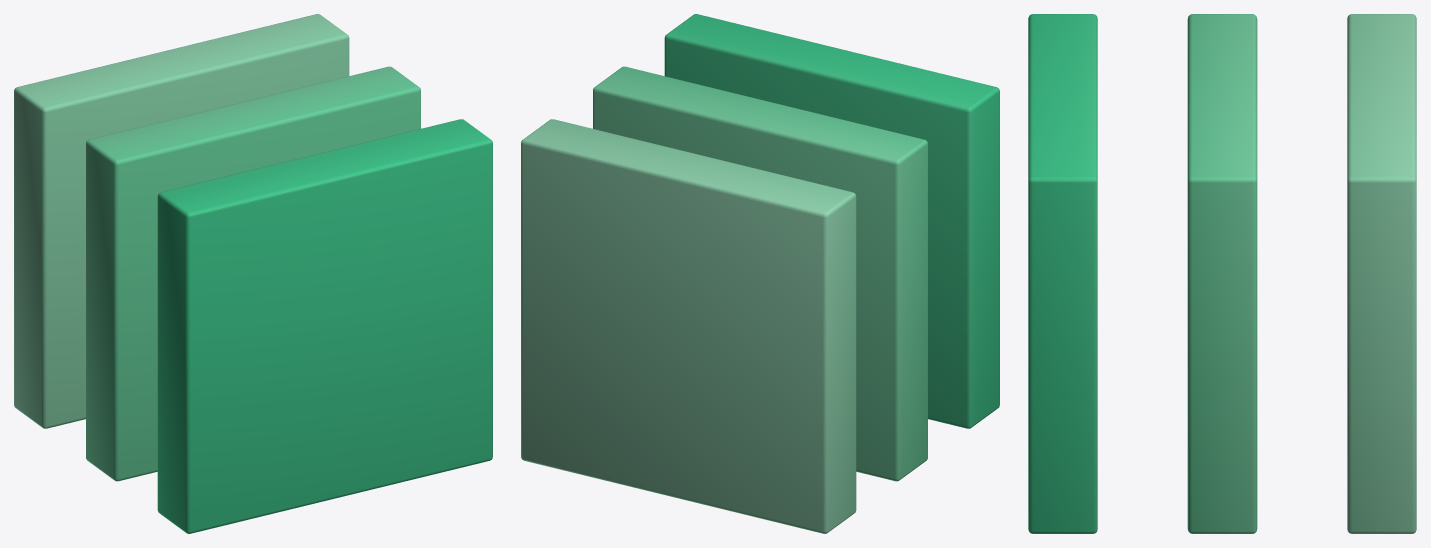
The model's file is Align.gltf.
The picture shows the model from 3 angles, left to right: view 1: azimuth 30°, elevation 25°; view 2: azimuth 150°, elevation 25°; view 3: azimuth 270°, elevation 25°; orthographic projection. The views are drawn at different scales.
Visible parts, largest first — view 1: Cube.001, Cube.003, Cube.002; view 2: Cube.003, Cube.001, Cube.002; view 3: Cube.002, Cube.001, Cube.003.
Boxes of the visible parts, left/top/right/bottom form: Cube.001: left=157, top=119, right=492, bottom=533; Cube.003: left=14, top=14, right=349, bottom=428; Cube.002: left=86, top=66, right=420, bottom=481; Cube.003: left=521, top=119, right=856, bottom=533; Cube.001: left=664, top=14, right=999, bottom=428; Cube.002: left=593, top=66, right=927, bottom=481; Cube.002: left=1187, top=14, right=1257, bottom=533; Cube.001: left=1028, top=14, right=1097, bottom=533; Cube.003: left=1347, top=14, right=1416, bottom=533.
Bounding box in the file's own units: 1.72 × 1.72 × 1.7.
Materials: 1 (1 with a texture image).
